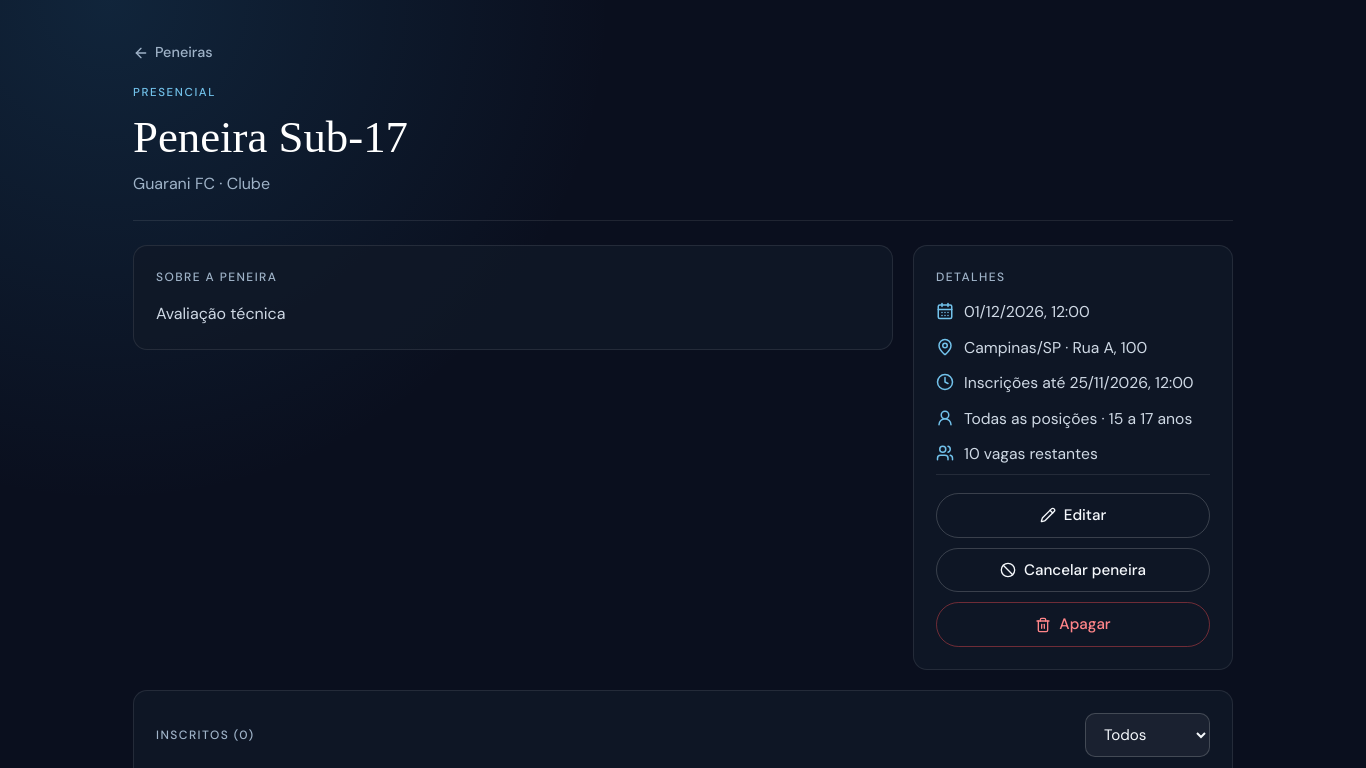
Test: OpportunityDetail — dono › apagar pede confirmação antes de chamar DELETE
Later steps or results of the test are not shown.
Click the button "Apagar" at (1073, 625), box [936,602,1210,647]
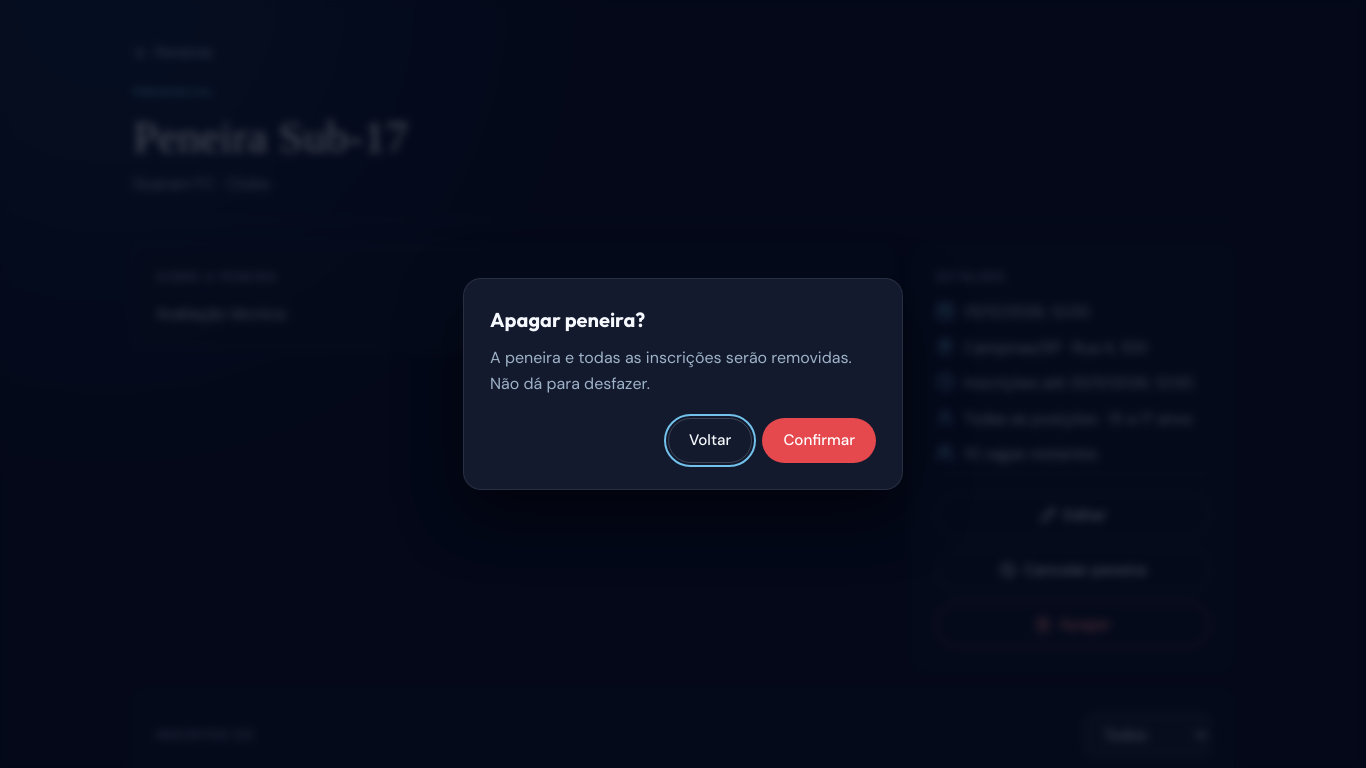
Expected: the dialog is shown, [463,278,903,490]
